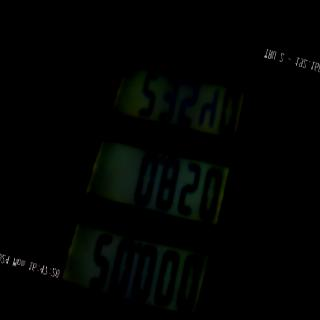screen: (51, 20, 269, 320)
